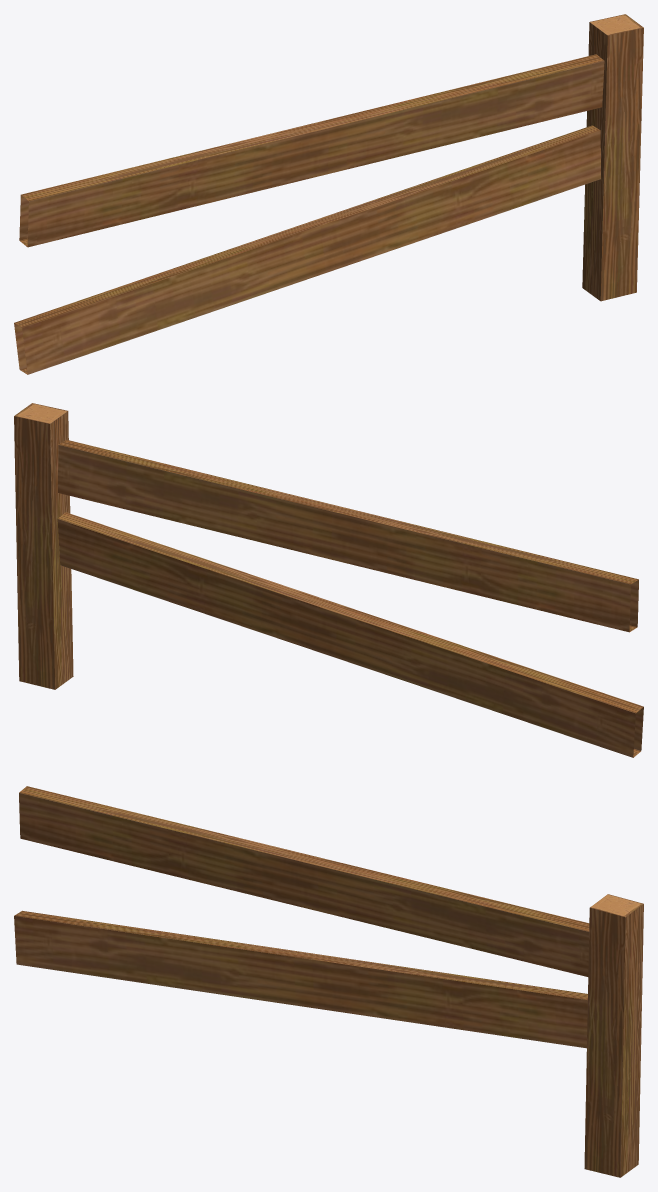
File: fence_wood_extension.glb
3 views of the same model, one above another, from view 1: azimuth 30°, elevation 25°; view 2: azimuth 150°, elevation 25°; view 3: azimuth 330°, elevation 25° (orthographic).
Visible parts, largest first — view 1: Prop_WoodenFence_Extension1; view 2: Prop_WoodenFence_Extension1; view 3: Prop_WoodenFence_Extension1.
Part boxes in pixels (bbox=[...]): Prop_WoodenFence_Extension1: bbox=[14, 14, 643, 374]; Prop_WoodenFence_Extension1: bbox=[14, 403, 643, 757]; Prop_WoodenFence_Extension1: bbox=[14, 786, 643, 1177].
Bounding box in the file's own units: 2.05 × 0.8381 × 0.1103.
Materials: 1 (1 with a texture image).
